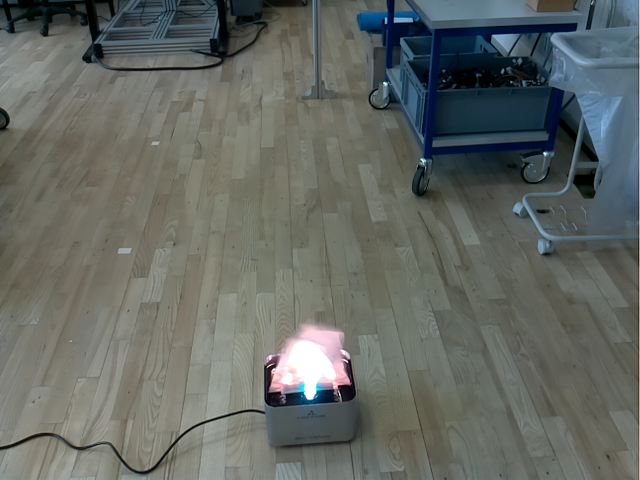fire: (268, 322, 351, 394)
